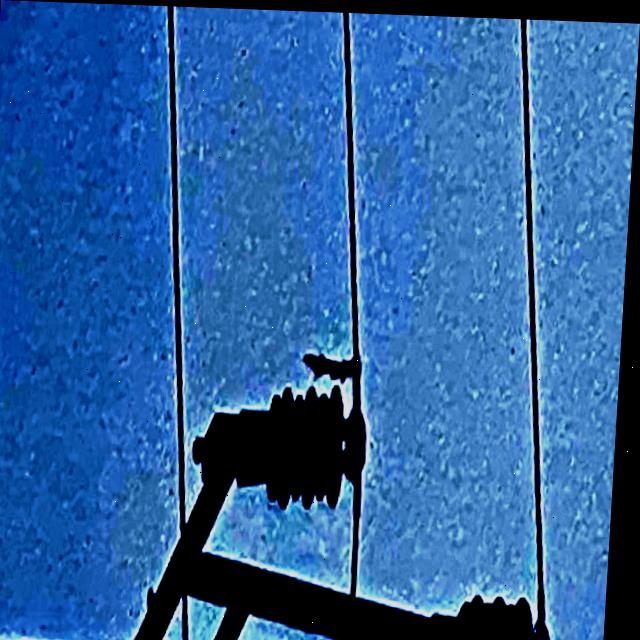obstruction: (307, 347, 366, 378)
poles: (132, 381, 574, 640)
wires: (518, 15, 557, 640), (164, 14, 192, 535), (340, 25, 365, 352), (354, 483, 369, 640), (187, 599, 200, 640)
